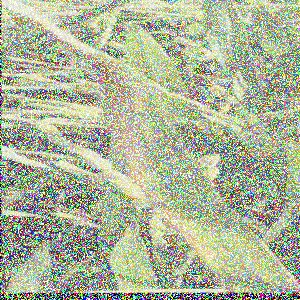Leaf_Blast: (104, 65, 191, 180)
